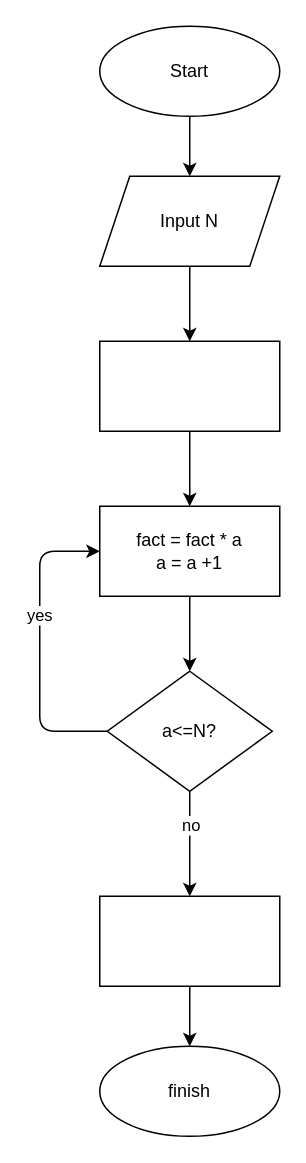
The diagram is 306 pixels wide and 1163 high, and some of its shapes have lost their labels. The shapes that lost their labels are listed below. From the top down, each one's centre as x and y in pixels, then its label:
[189,385]: a=1 fact=1
[189,940]: fact
